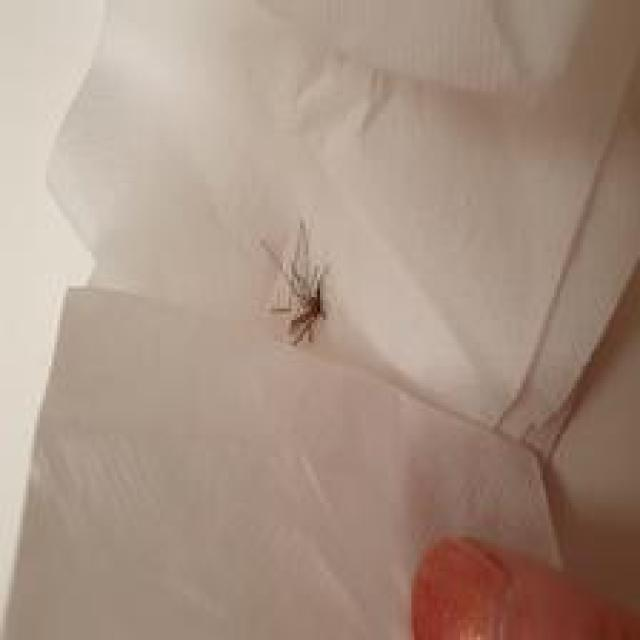Culex: (257, 217, 334, 346)
